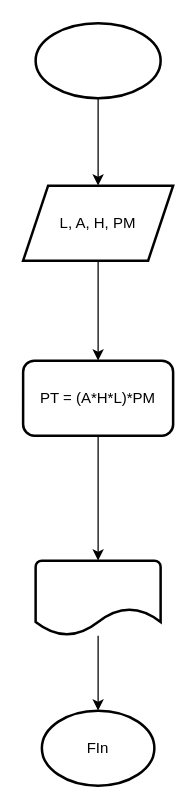
Some shapes in this 195 by 808 pixel diagram are drawn without their labels. Each missing label, with the box of its shape:
Inicio: (34, 21, 161, 99)
PT: (34, 559, 161, 636)
